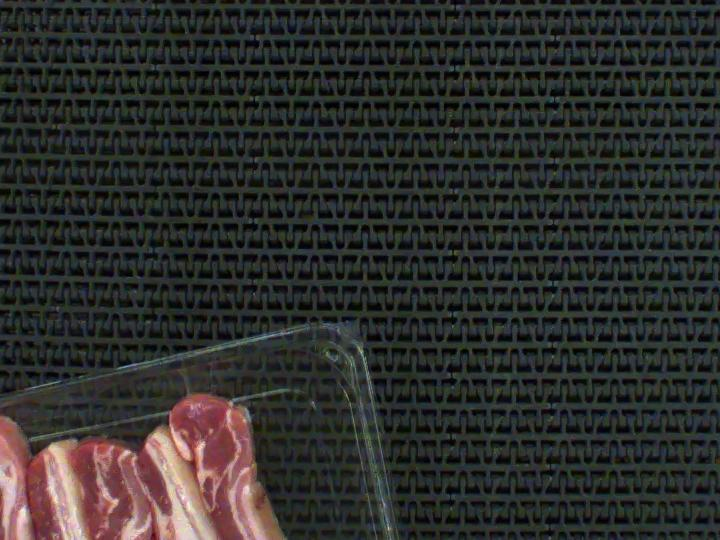packaging-error: (0, 381, 46, 492)
